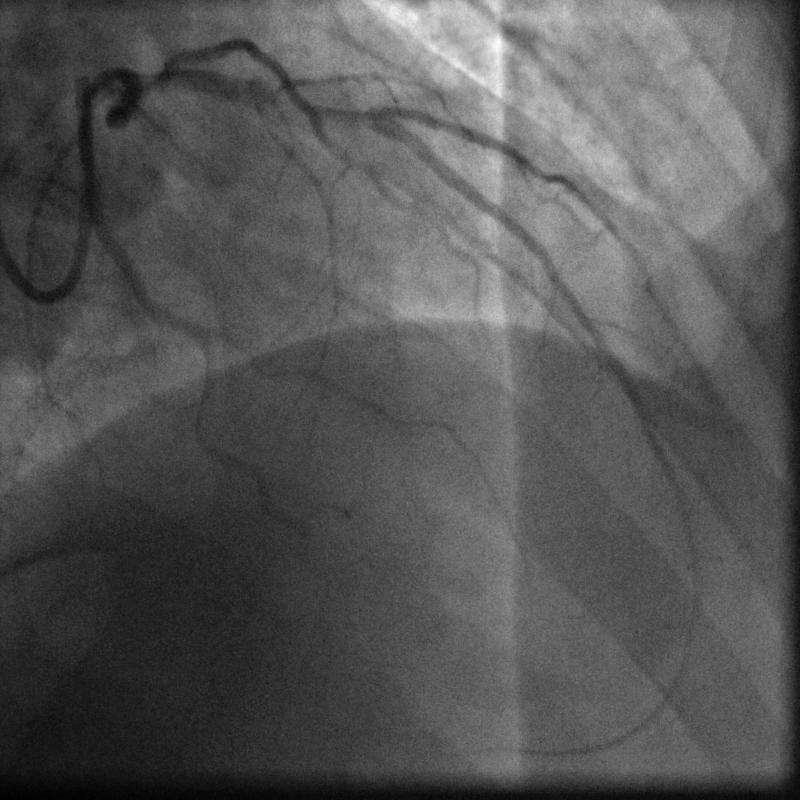Stenosis: (245, 82, 339, 123)
